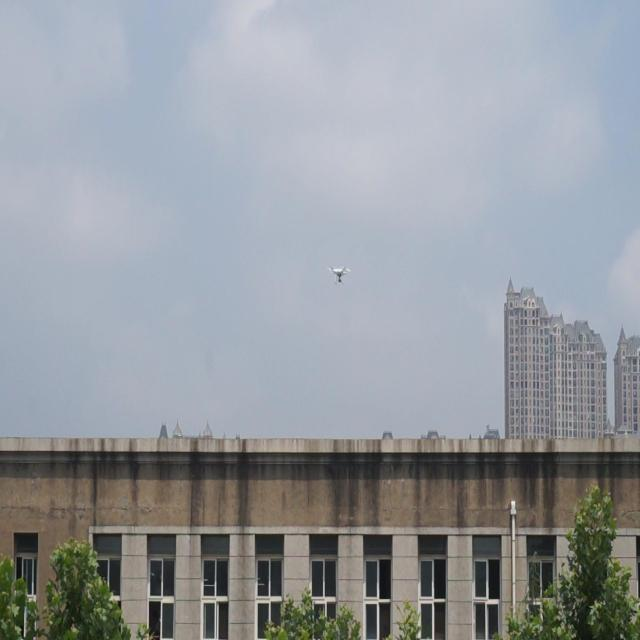drone: (325, 258, 352, 288)
